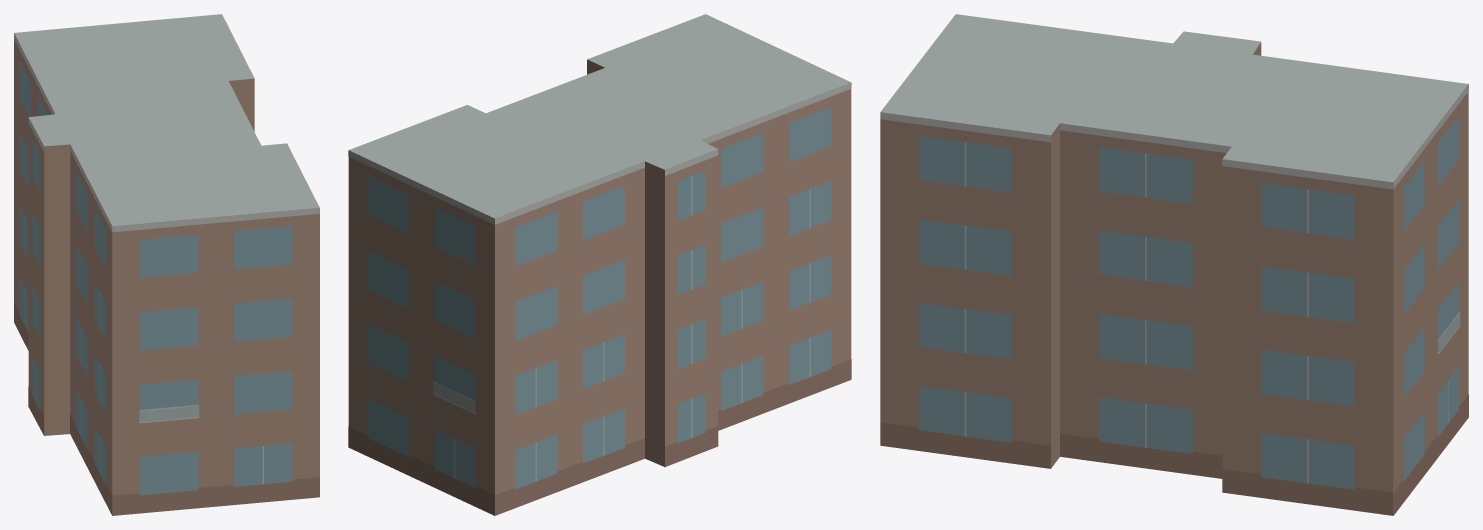
File: survey-upis-32990216.glb
3 renders of one model, left to right at view 1: azimuth 30°, elevation 25°; view 2: azimuth 150°, elevation 25°; view 3: azimuth 270°, elevation 25°, orthographic. The views are drawn at different scales.
Parts seen in each view (by area): view 1: survey-upis-32990216.tmp; view 2: survey-upis-32990216.tmp; view 3: survey-upis-32990216.tmp.
Boxes of the visible parts, x1,y1,x2,y2 form: survey-upis-32990216.tmp: (14,14,319,515); survey-upis-32990216.tmp: (348,14,851,515); survey-upis-32990216.tmp: (880,14,1468,515).
Bounding box in the file's own units: 12.58 × 11.6 × 18.56.
